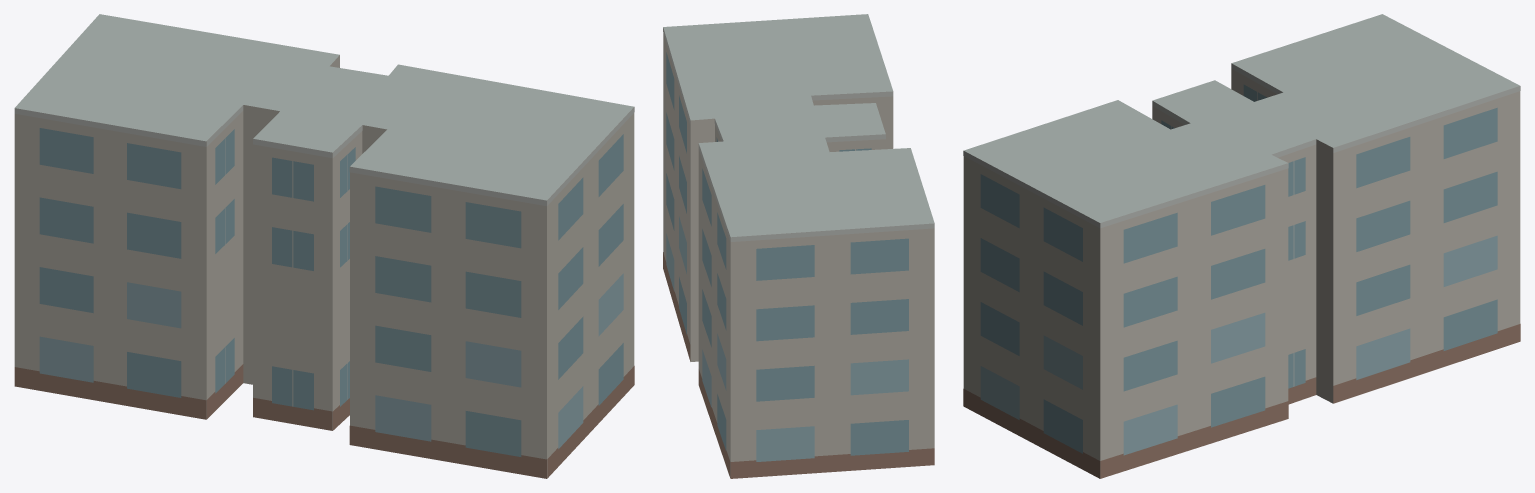
Rendered from survey-upis-32998471.glb.
3 views of the same model, side by side, from view 1: azimuth 30°, elevation 25°; view 2: azimuth 150°, elevation 25°; view 3: azimuth 270°, elevation 25° (orthographic). The views are drawn at different scales.
Visible parts, largest first — view 1: survey-upis-32998471.tmp; view 2: survey-upis-32998471.tmp; view 3: survey-upis-32998471.tmp.
Boxes of the visible parts, box(x1,y1,x2,y2) form: survey-upis-32998471.tmp: box(14, 14, 634, 478); survey-upis-32998471.tmp: box(663, 14, 934, 478); survey-upis-32998471.tmp: box(963, 14, 1520, 478).
Size of the model in its own units: 20.87 by 11.9 by 23.49.
